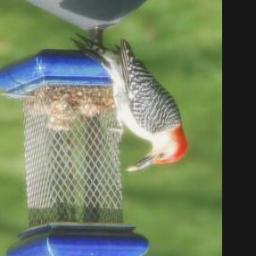Woodpecker: (62, 28, 188, 178)
